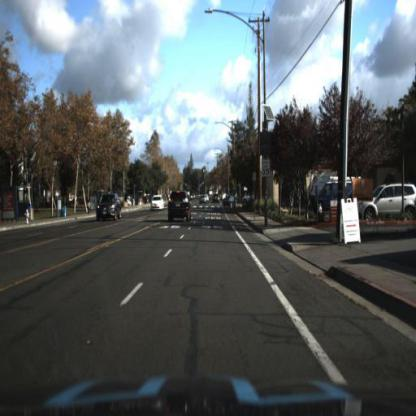car: (353, 182, 416, 223), (307, 173, 343, 225), (165, 186, 199, 233), (167, 193, 191, 227), (99, 196, 124, 220), (151, 193, 165, 216), (211, 191, 223, 207), (224, 195, 236, 209), (199, 193, 210, 206)
truck: (312, 181, 362, 213)
